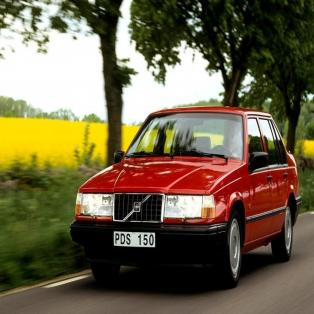Auto: (65, 103, 306, 291)
